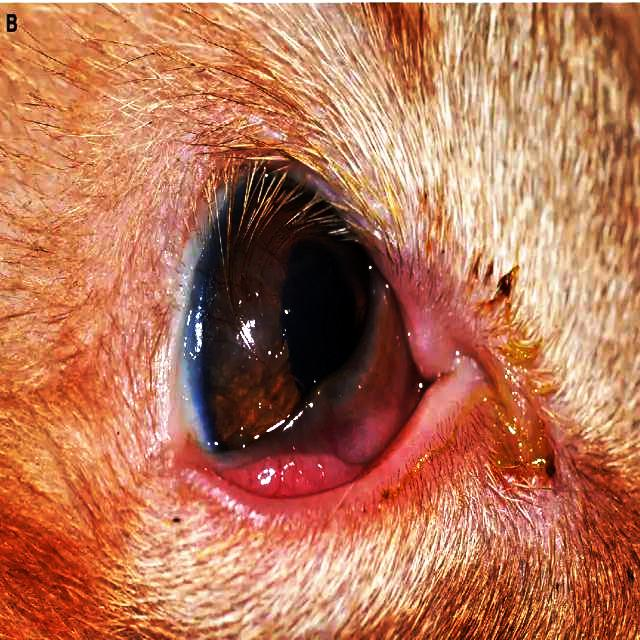eye_infection: (179, 171, 428, 497)
